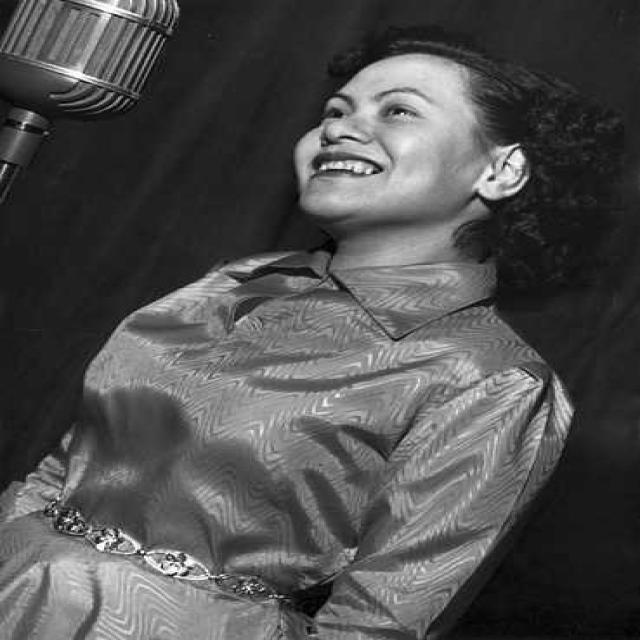microphone: (2, 3, 176, 218)
